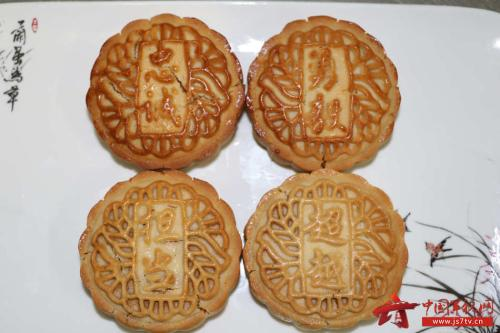MoonCake: (243, 169, 409, 333), (77, 171, 243, 333), (85, 11, 245, 171), (245, 15, 401, 171)
